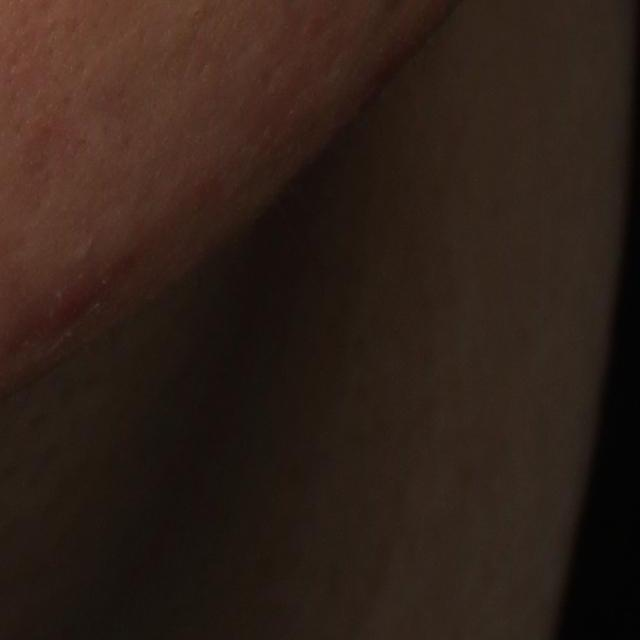papule: (31, 274, 101, 338)
